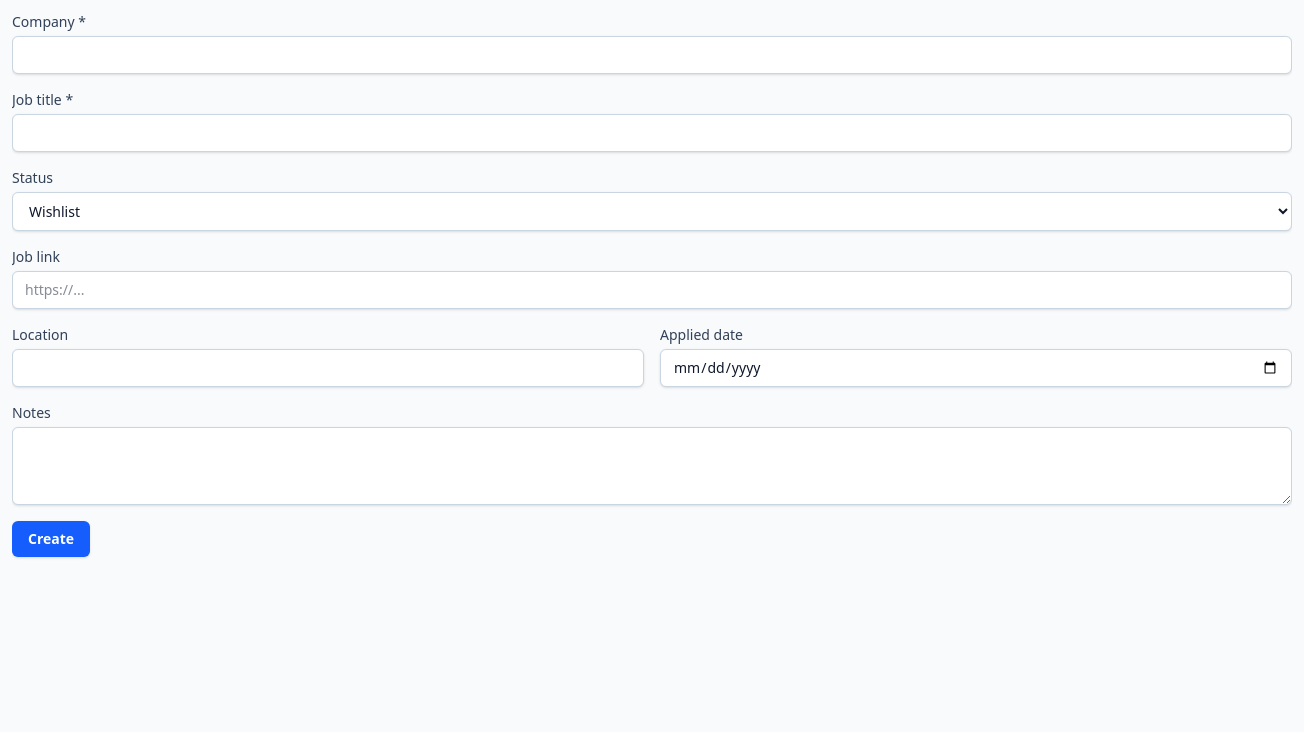
Test case: ApplicationForm › shows the error when the server rejects the submission
The width and height of the screenshot is (1304, 732).
Step 1. Type "Acme" into the field labelled "Company *" → (652, 55), box [12, 36, 1292, 74]
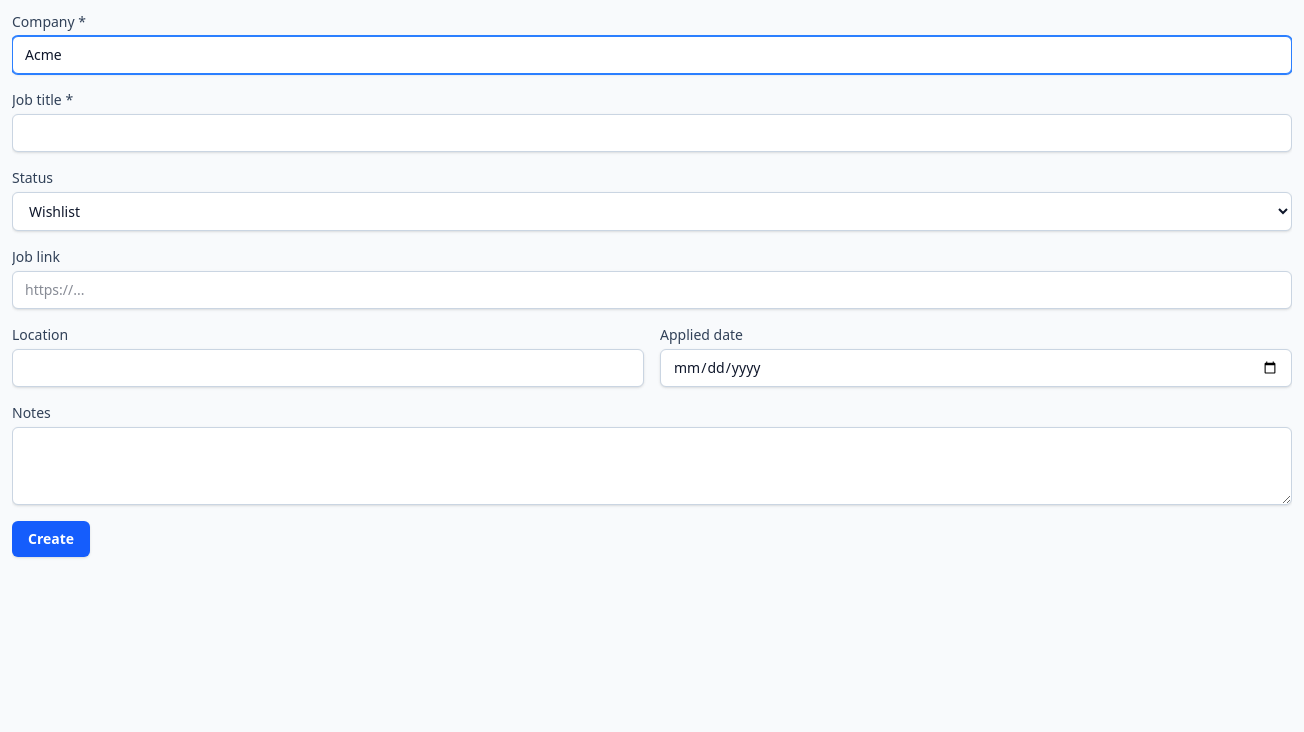
Step 2. Type "Dev" into the field labelled "Job title *" → (652, 133), box [12, 114, 1292, 152]
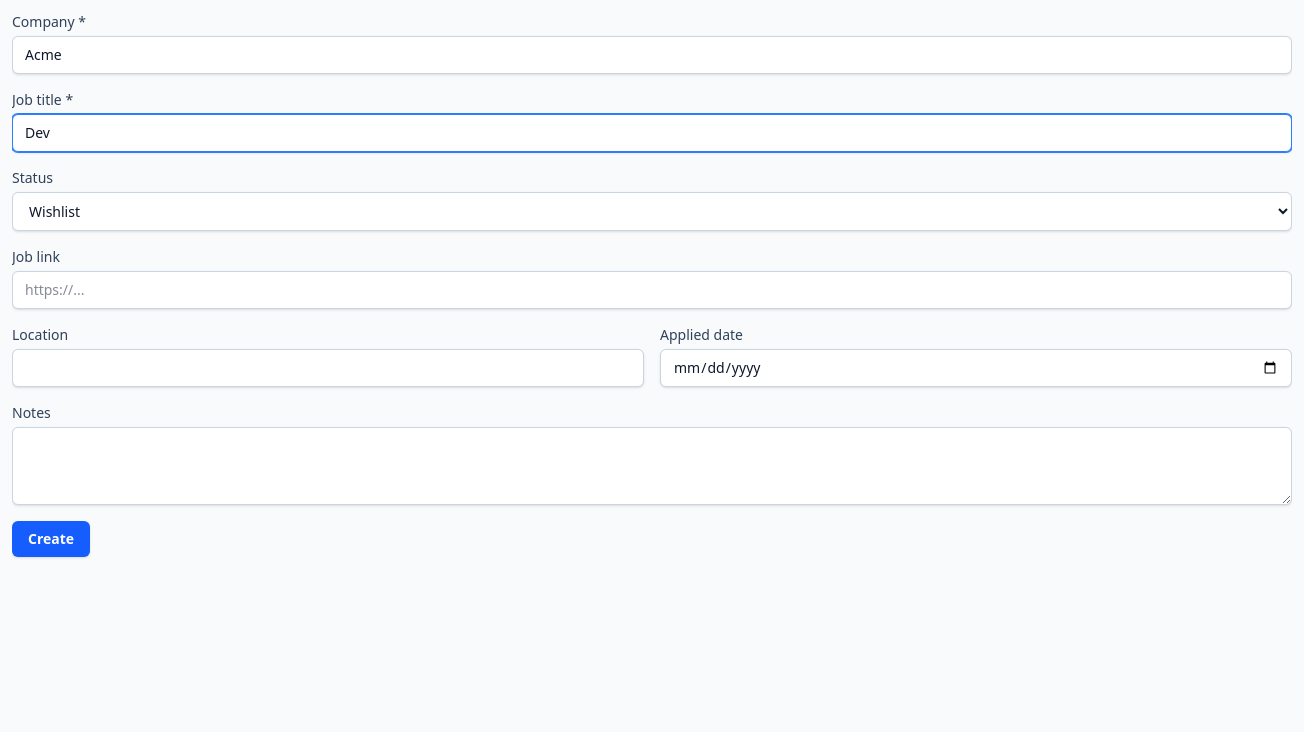
Step 3. Click the button "Create" → (51, 539), box [12, 521, 90, 557]
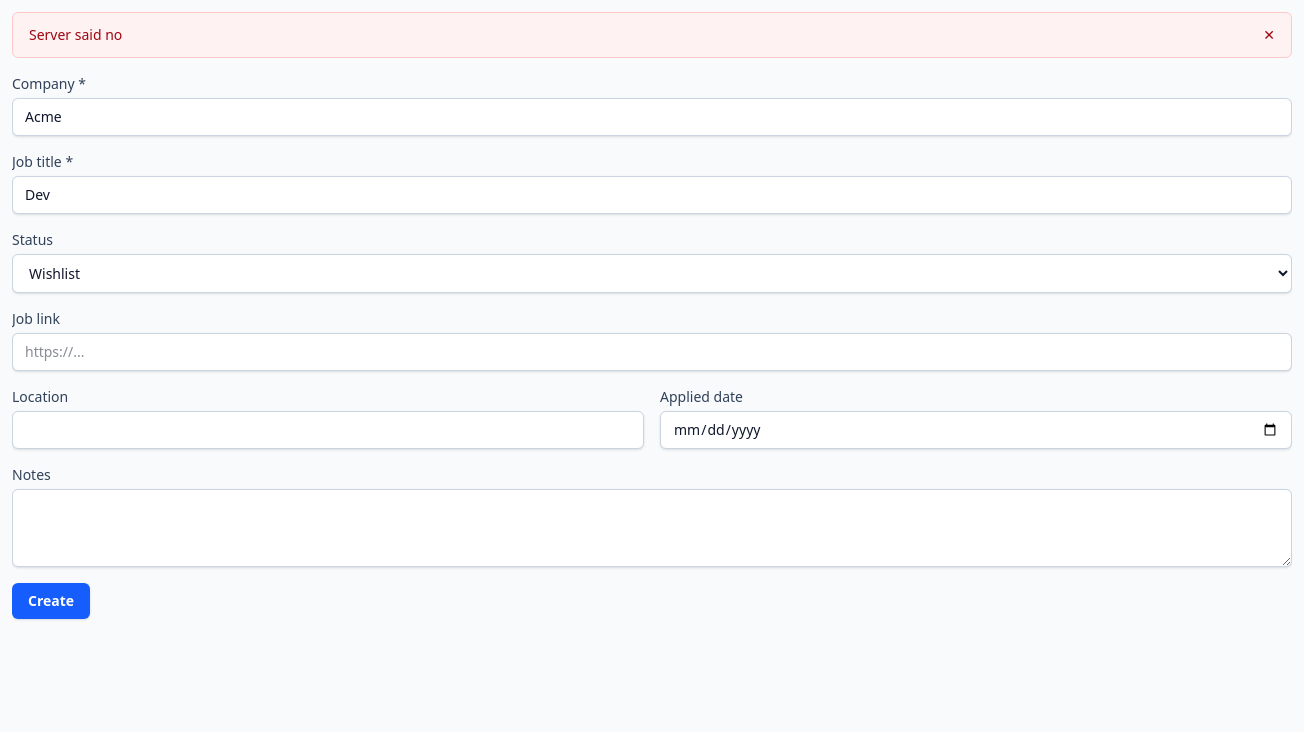
Now the message shows "Server said no", box [29, 25, 122, 44]
